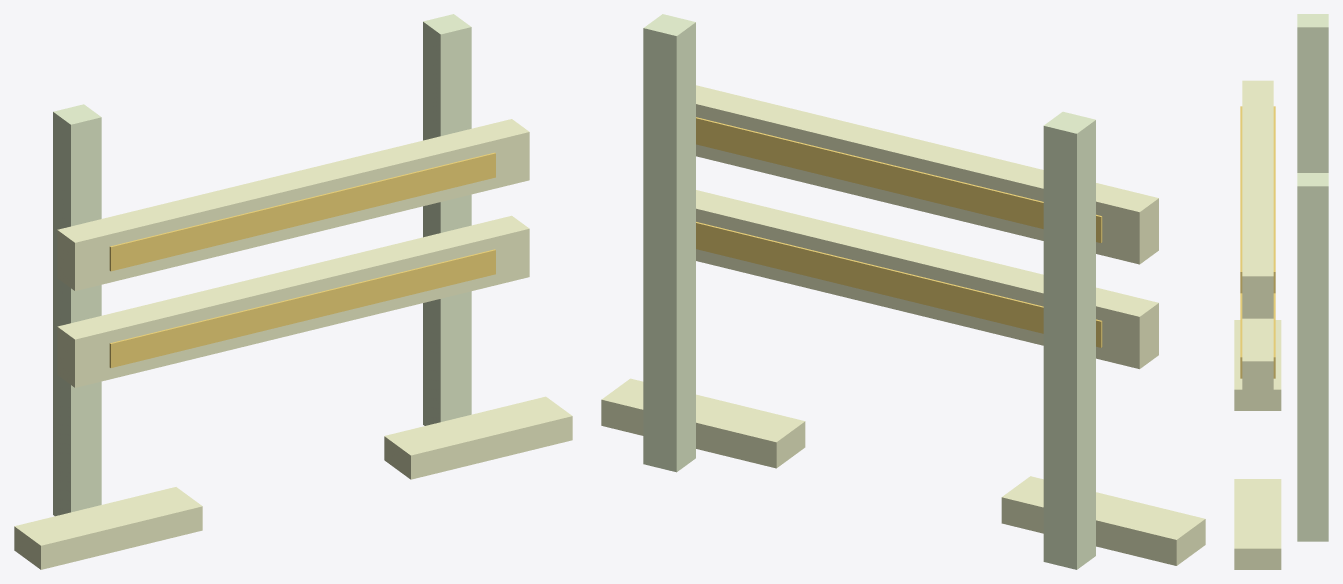
The model's file is furniture_barricade_panel.glb.
3 renders of one model, left to right at view 1: azimuth 30°, elevation 25°; view 2: azimuth 150°, elevation 25°; view 3: azimuth 270°, elevation 25°, orthographic. The views are drawn at different scales.
Visible parts, largest first — view 1: panel_upper, panel_mid, leg_left, leg_right, stripe_upper, stripe_mid, foot_right, foot_left; view 2: leg_left, leg_right, panel_mid, panel_upper, stripe_mid, stripe_upper, foot_right, foot_left; view 3: leg_right, panel_upper, leg_left, foot_right, panel_mid, foot_left, stripe_upper, stripe_mid.
Part boxes in pixels (x1=…): panel_upper: x1=57, y1=119, x2=529, y2=290; panel_mid: x1=57, y1=215, x2=529, y2=387; leg_left: x1=53, y1=104, x2=101, y2=516; leg_right: x1=423, y1=14, x2=471, y2=425; stripe_upper: x1=109, y1=152, x2=495, y2=271; stripe_mid: x1=109, y1=249, x2=495, y2=367; foot_right: x1=384, y1=396, x2=572, y2=479; foot_left: x1=14, y1=487, x2=202, y2=569; leg_left: x1=1043, y1=111, x2=1095, y2=569; leg_right: x1=643, y1=14, x2=695, y2=472; panel_mid: x1=696, y1=190, x2=1158, y2=369; panel_upper: x1=696, y1=85, x2=1158, y2=264; stripe_mid: x1=696, y1=222, x2=1102, y2=347; stripe_upper: x1=696, y1=117, x2=1102, y2=242; foot_right: x1=601, y1=378, x2=805, y2=468; foot_left: x1=1001, y1=476, x2=1205, y2=565; leg_right: x1=1297, y1=173, x2=1328, y2=541; panel_upper: x1=1242, y1=80, x2=1273, y2=318; leg_left: x1=1297, y1=14, x2=1328, y2=172; foot_right: x1=1234, y1=479, x2=1281, y2=569; panel_mid: x1=1242, y1=318, x2=1273, y2=403; foot_left: x1=1234, y1=320, x2=1281, y2=410; stripe_upper: x1=1240, y1=106, x2=1275, y2=293; stripe_mid: x1=1240, y1=293, x2=1275, y2=378.
Bounding box in the file's own units: 1.38 × 1 × 0.24.
